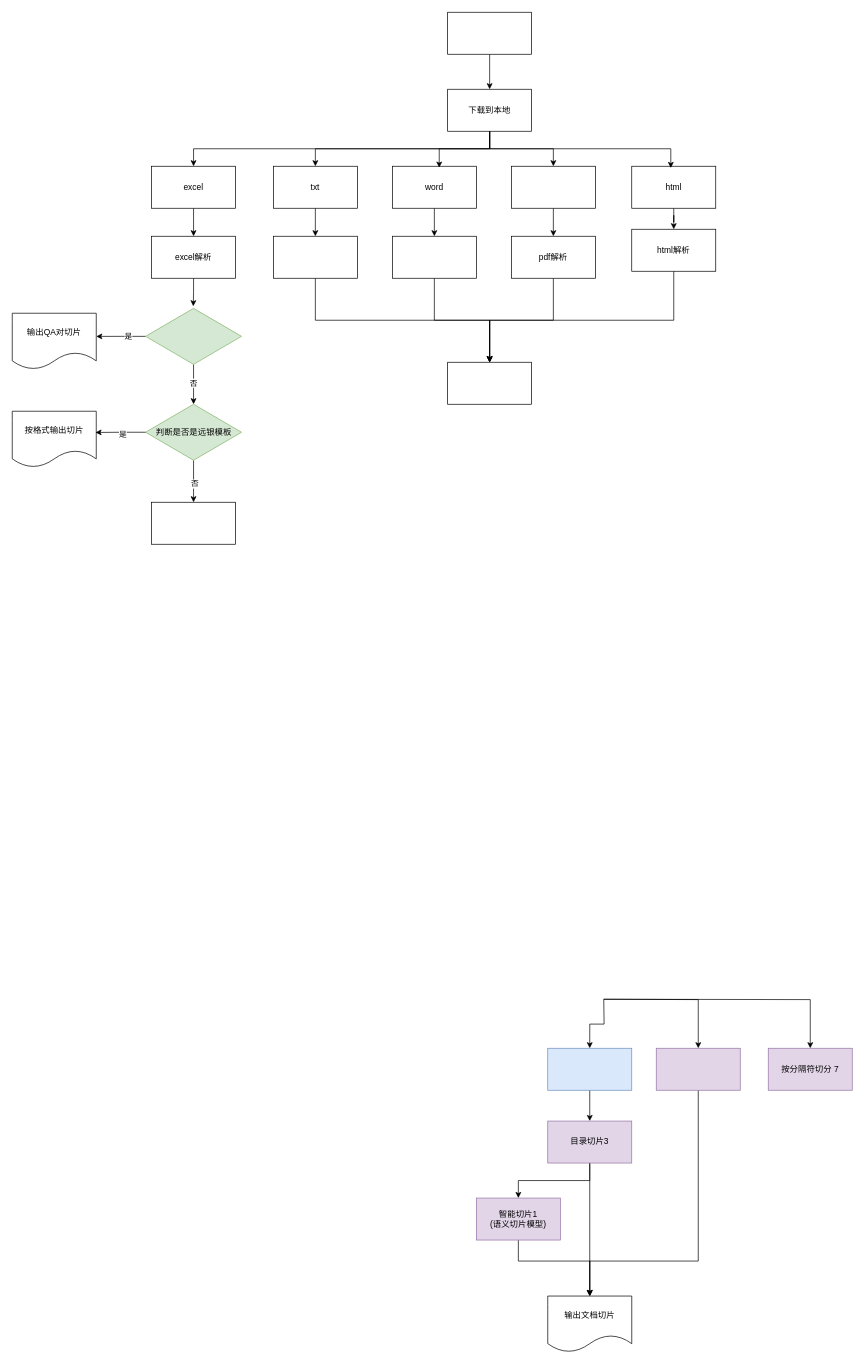
This 865x1364 diagram has some shape labels left out. The shapes that lost their labels are listed below. From the top down, each one's box as (x1, y1, x2, y2) in pixels, then its label:
(447, 12, 532, 54): 传入cos 文档路径list
(511, 166, 595, 208): pdf
(273, 236, 357, 278): txt解析
(392, 236, 476, 278): word解析
(145, 308, 241, 364): 判断是否是QA对
(151, 502, 236, 544): 暂不解析
(547, 1048, 632, 1090): 目录识别
(656, 1048, 740, 1090): 字数切片2
